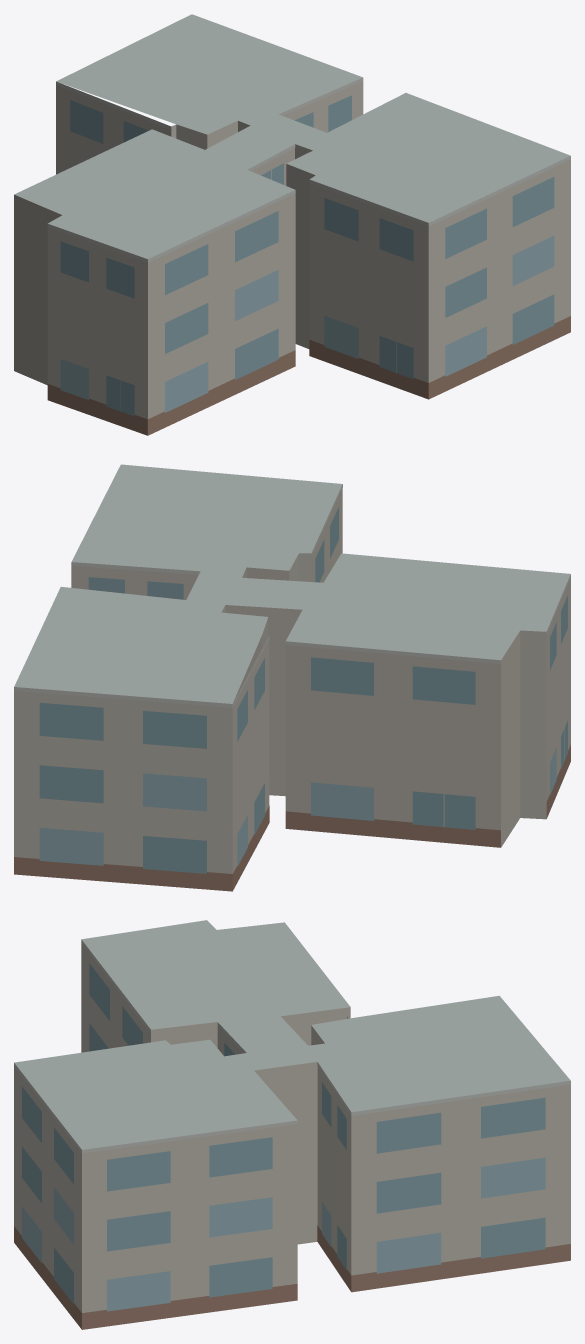
The model's file is survey-upis-32926371.glb.
3 views of the same model, one above another, from view 1: azimuth 30°, elevation 25°; view 2: azimuth 150°, elevation 25°; view 3: azimuth 270°, elevation 25° (orthographic). The views are drawn at different scales.
Visible parts, largest first — view 1: survey-upis-32926371.tmp; view 2: survey-upis-32926371.tmp; view 3: survey-upis-32926371.tmp.
Boxes of the visible parts, left/top/right/bottom form: survey-upis-32926371.tmp: left=14, top=14, right=570, bottom=435; survey-upis-32926371.tmp: left=14, top=464, right=570, bottom=891; survey-upis-32926371.tmp: left=14, top=920, right=570, bottom=1329.
Size of the model in its own units: 32.82 by 11.98 by 33.6.
